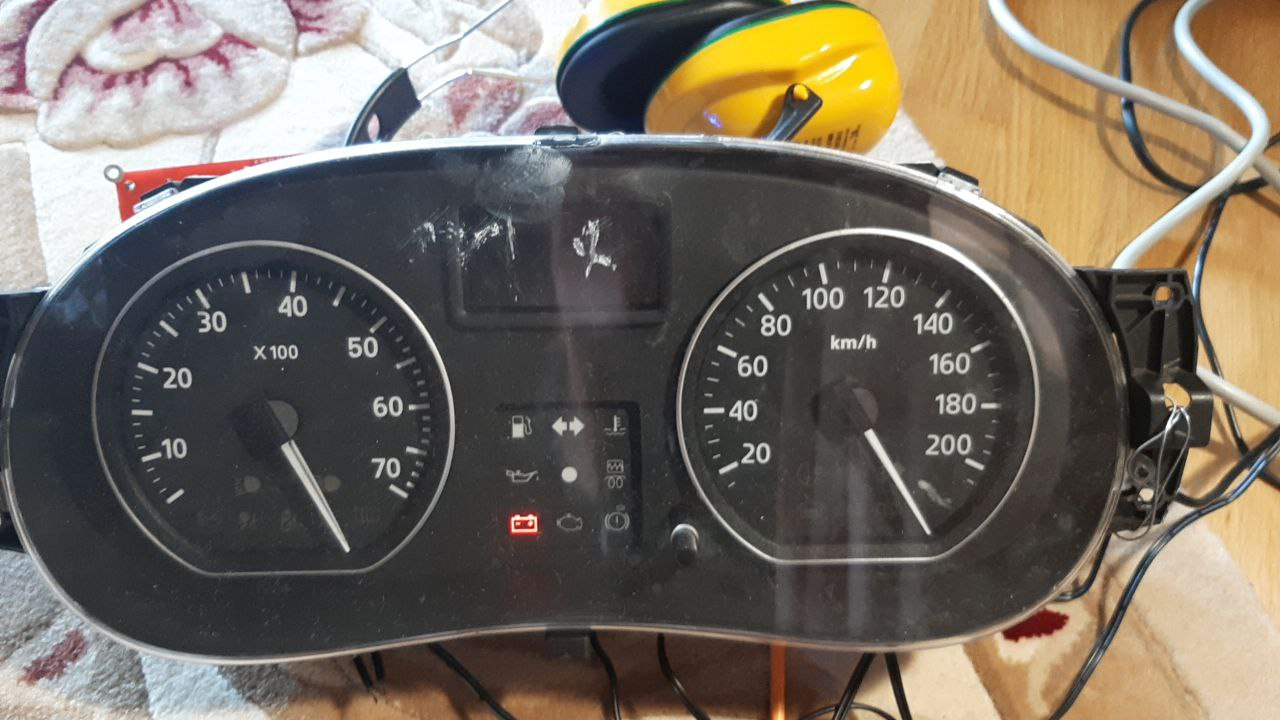accumulator: (506, 515, 541, 537)
